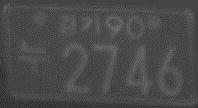0: (125, 15, 146, 41)
3: (62, 42, 90, 94)
4: (125, 45, 153, 96)
6: (156, 45, 185, 98)
7: (92, 43, 117, 93)
9: (104, 14, 124, 39)
경기_O: (58, 13, 101, 35)
누: (18, 39, 49, 75)
